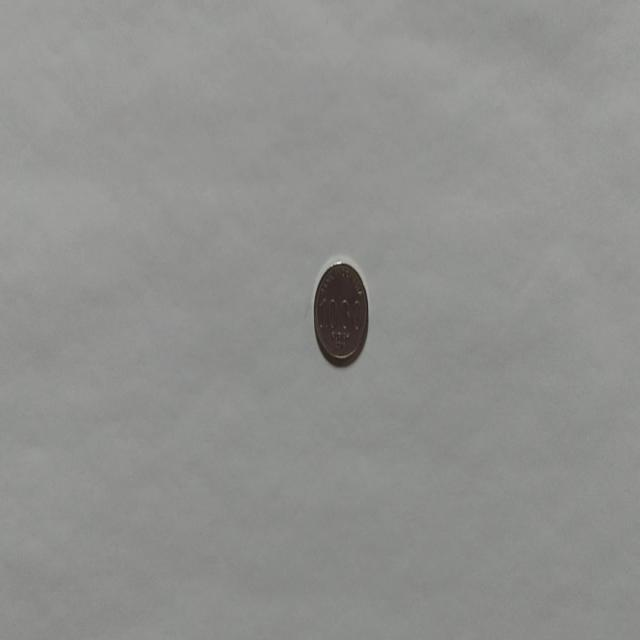seribu rupiah koin: (312, 256, 369, 367)
